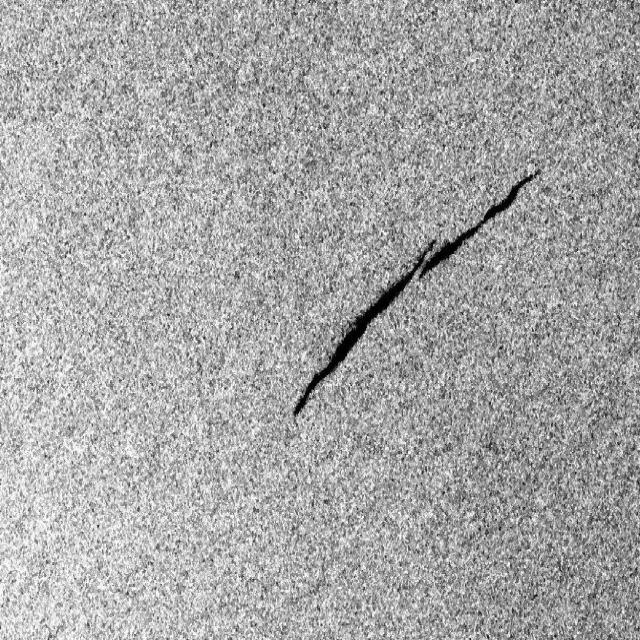oil-spill: (282, 167, 548, 419)
